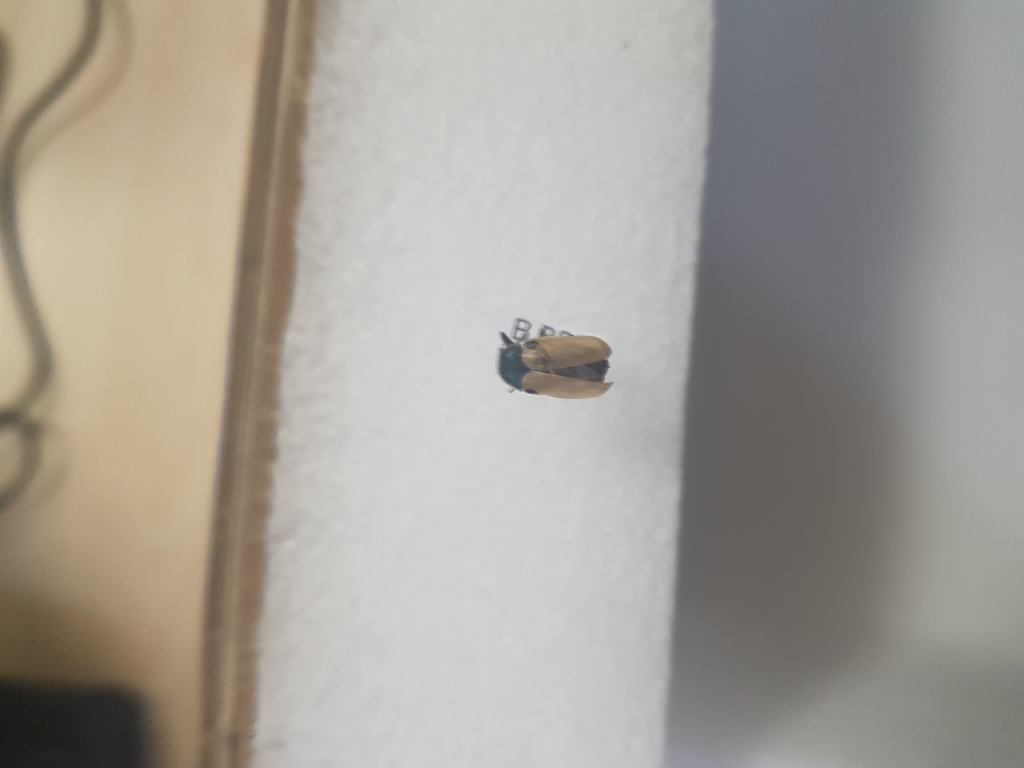Labidostomis_asiatica: (496, 325, 617, 409)
